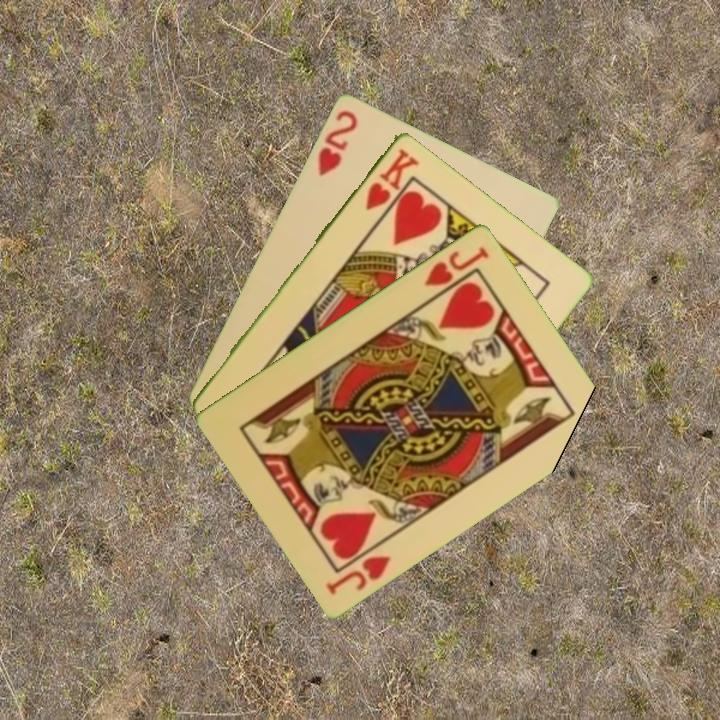2h: (314, 106, 360, 179)
Jh: (421, 242, 492, 303), (322, 551, 394, 597)
Kh: (361, 144, 421, 213)
